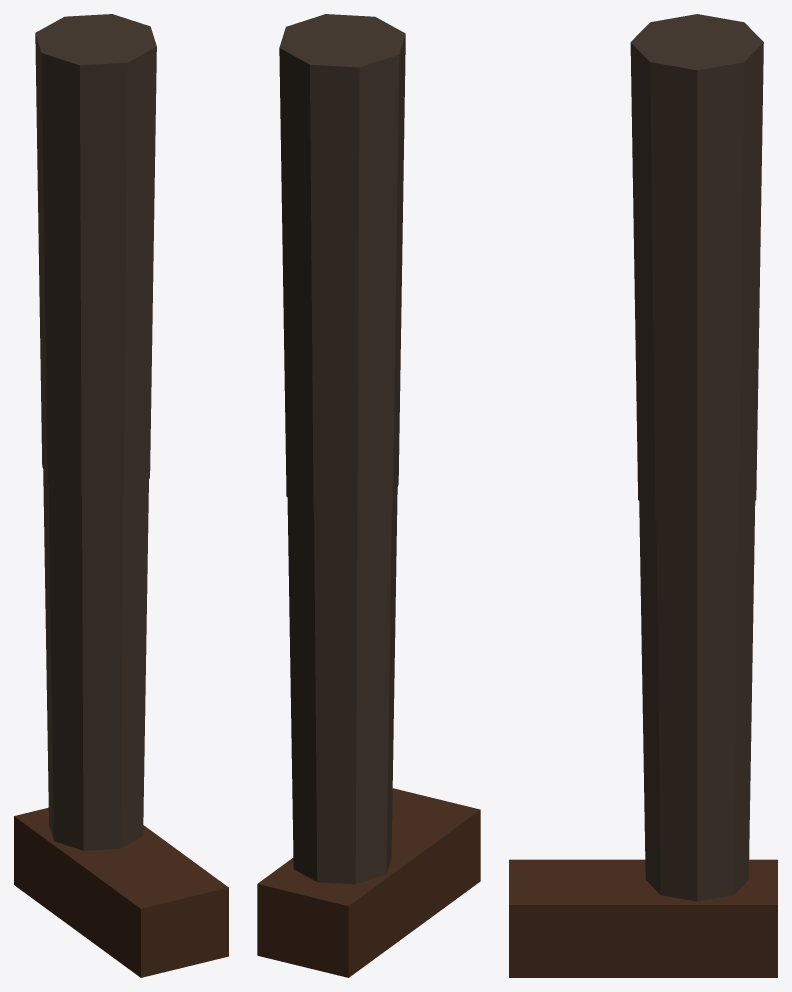
File: PersonSmithLegR.obj
The picture shows the model from 3 angles, left to right: view 1: azimuth 30°, elevation 25°; view 2: azimuth 150°, elevation 25°; view 3: azimuth 270°, elevation 25°; orthographic projection. The views are drawn at different scales.
Parts seen in each view (by area): view 1: PersonSmithLegR; view 2: PersonSmithLegR; view 3: PersonSmithLegR.
Part boxes in pixels (x1=…): PersonSmithLegR: x1=14, y1=14, x2=228, y2=977; PersonSmithLegR: x1=257, y1=14, x2=480, y2=977; PersonSmithLegR: x1=509, y1=14, x2=777, y2=977.
Bounding box in the file's own units: 0.124 × 0.9375 × 0.25.
